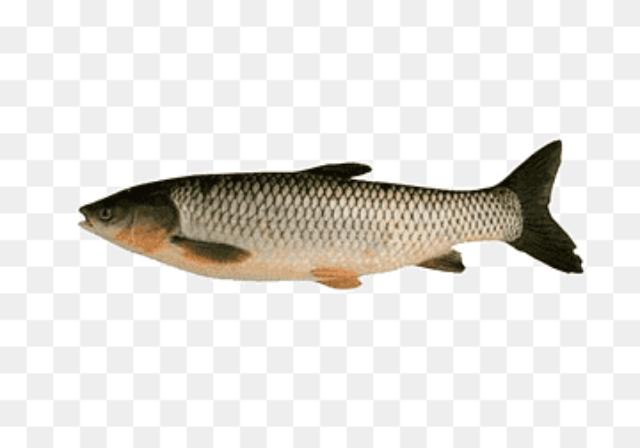Mulut: (69, 194, 107, 254)
Sirip Anal: (412, 239, 476, 283)
Sirip Dada: (165, 221, 257, 273)
Sirip Ekor: (494, 134, 598, 278)
Sirip Perut: (306, 260, 368, 304)
Sirip Punggung: (300, 154, 378, 192)
